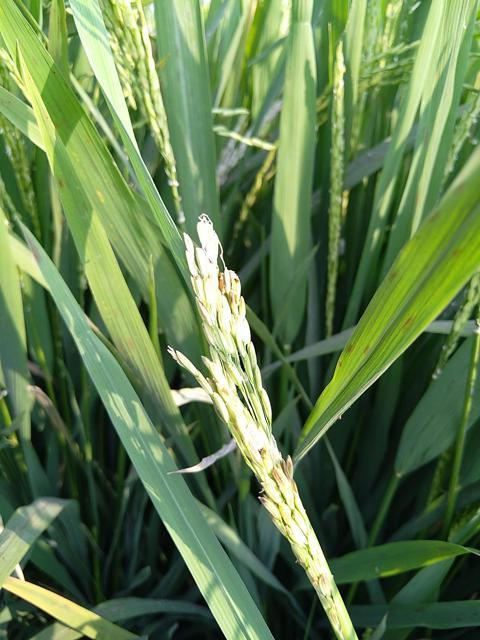Panicle Blight: (219, 270, 244, 314), (281, 455, 299, 496), (258, 487, 276, 520), (271, 464, 287, 495), (291, 545, 309, 570), (319, 576, 331, 598), (329, 608, 340, 629)
